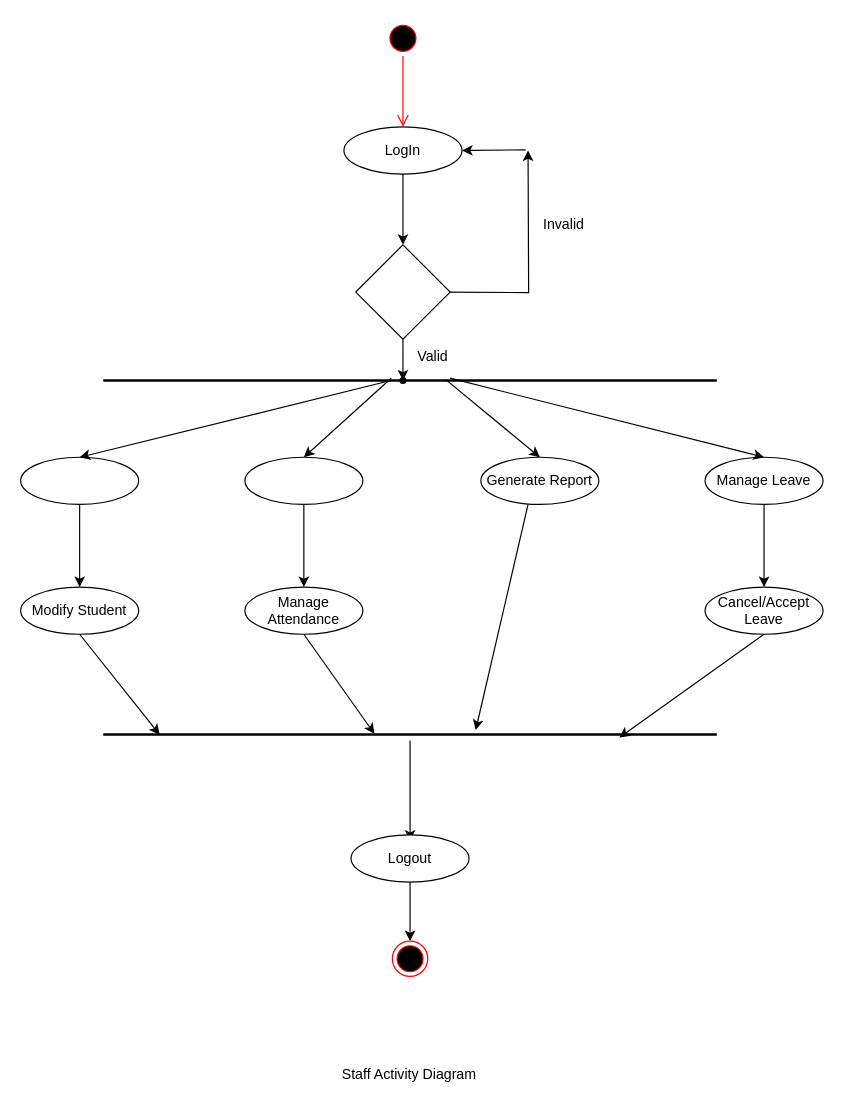
Image size: 844x1113. Some labels were removed from this diagram. Here are the shapes that lost their labels. From the top down, the centre of each, then its label:
point (402, 291): Authorization
point (79, 480): Add Student
point (303, 480): Take Attendance
